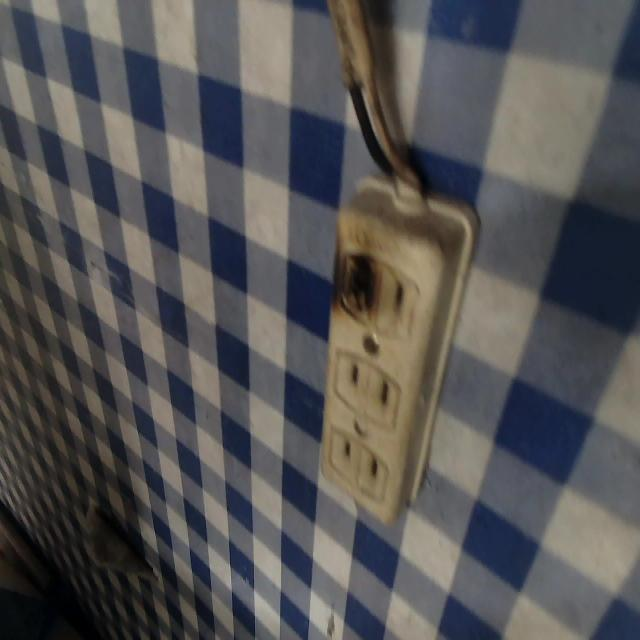-: (326, 236, 386, 324)
